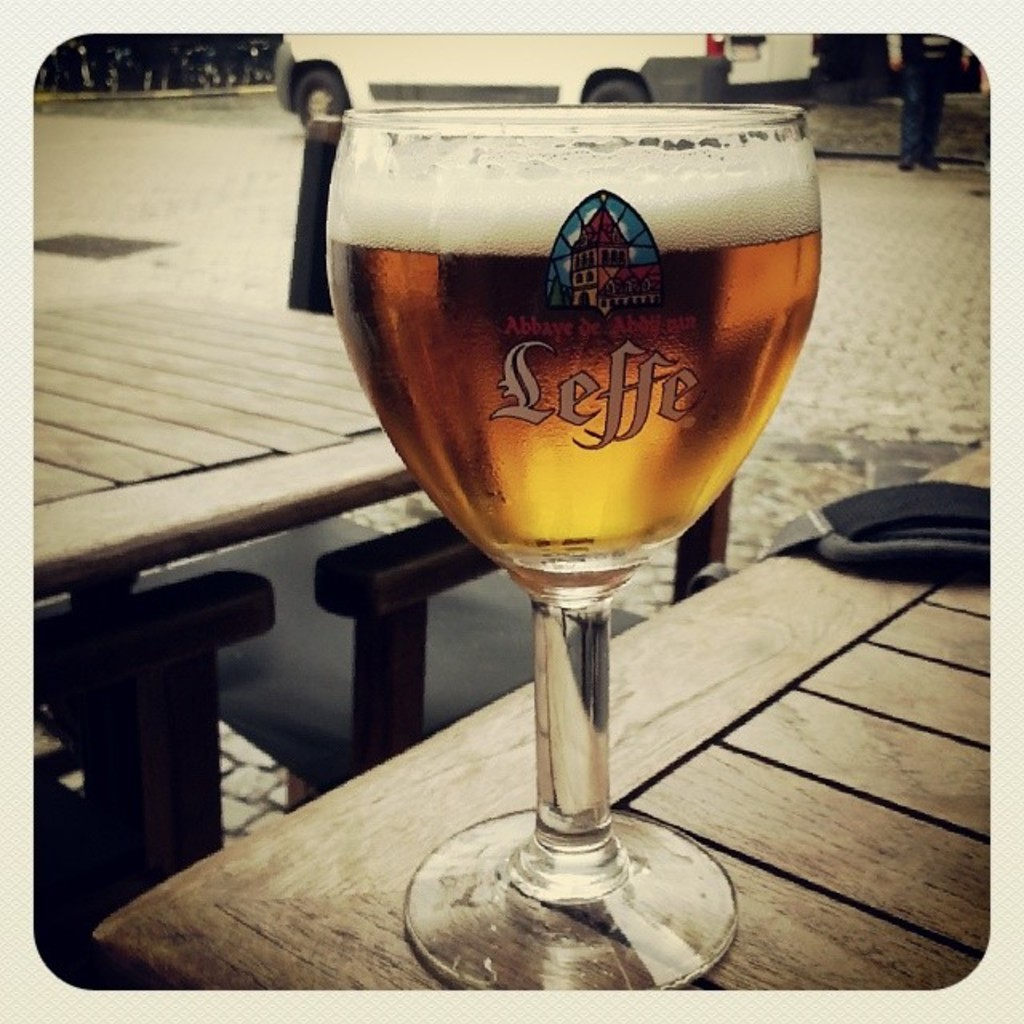Beer: (324, 107, 823, 590)
